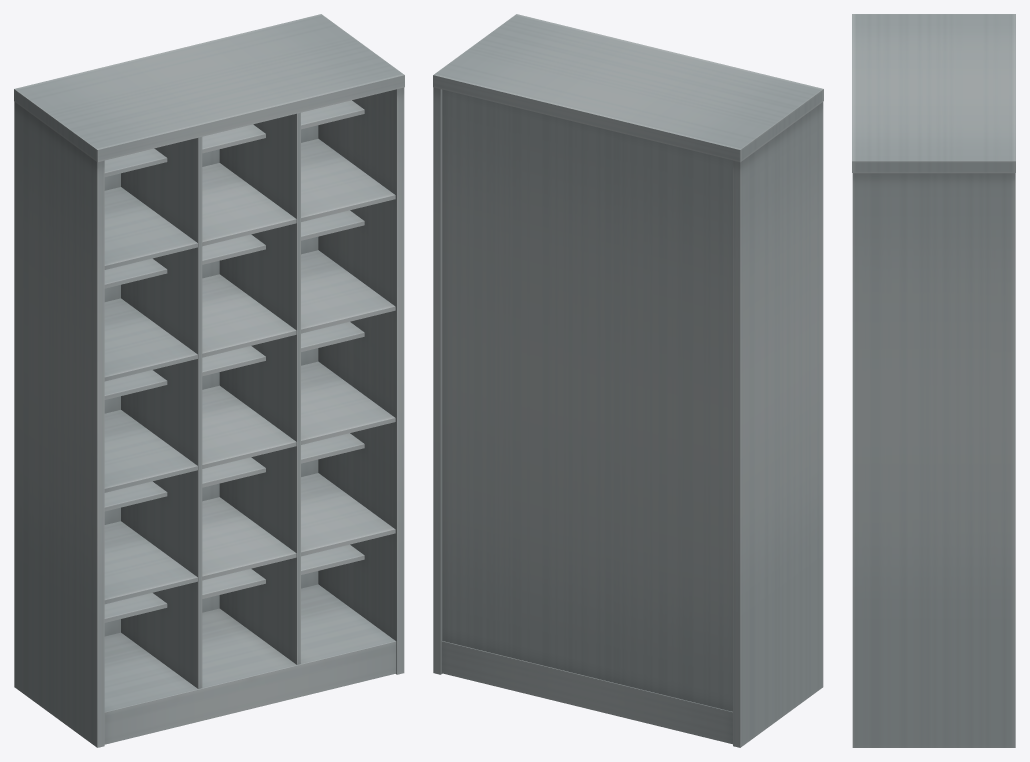
File: set_shoecupboard_a_12.fbx
The picture shows the model from 3 angles, left to right: view 1: azimuth 30°, elevation 25°; view 2: azimuth 150°, elevation 25°; view 3: azimuth 270°, elevation 25°; orthographic projection.
Visible parts, largest first — view 1: set_shoecupboard_a_12; view 2: set_shoecupboard_a_12; view 3: set_shoecupboard_a_12.
Boxes of the visible parts, x1,y1,x2,y2 form: set_shoecupboard_a_12: (14,14,404,747); set_shoecupboard_a_12: (433,14,823,747); set_shoecupboard_a_12: (852,14,1015,747).
Bounding box in the file's own units: 79.39 × 148 × 37.38.
